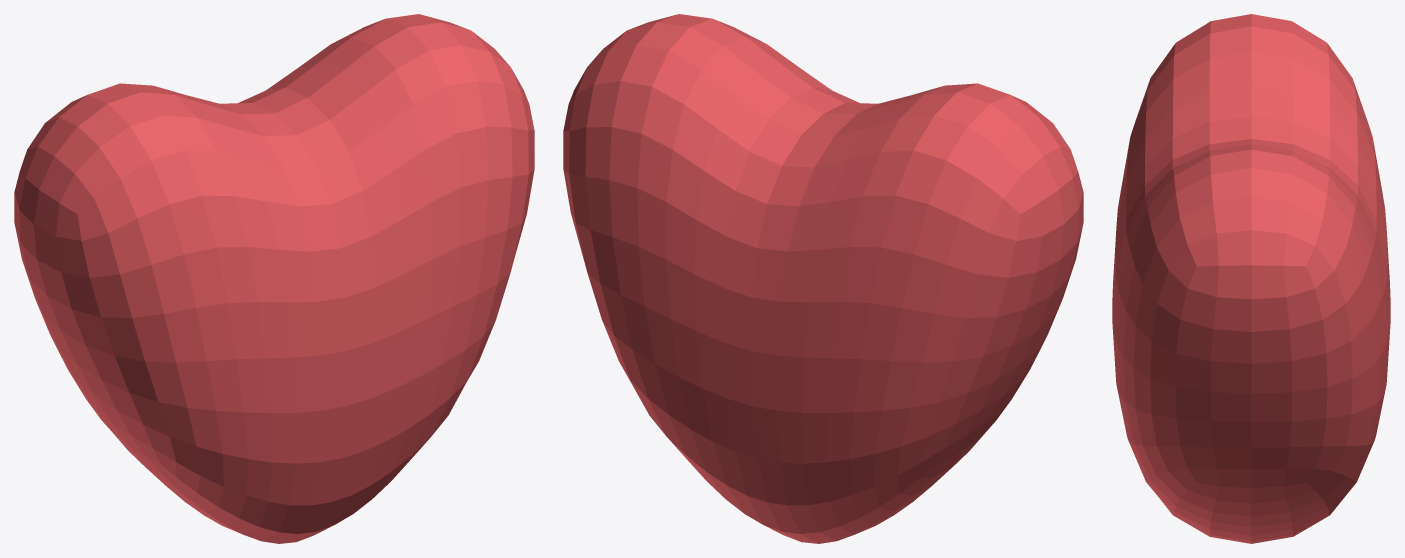
File: Heart.fbx
The picture shows the model from 3 angles, left to right: view 1: azimuth 30°, elevation 25°; view 2: azimuth 150°, elevation 25°; view 3: azimuth 270°, elevation 25°; orthographic projection. The views are drawn at different scales.
Parts seen in each view (by area): view 1: Cube; view 2: Cube; view 3: Cube.
Boxes of the visible parts, left/top/right/bottom form: Cube: left=14, top=14, right=534, bottom=543; Cube: left=563, top=14, right=1083, bottom=543; Cube: left=1112, top=14, right=1390, bottom=543.
Size of the model in its own units: 115 by 109 by 60.92.
